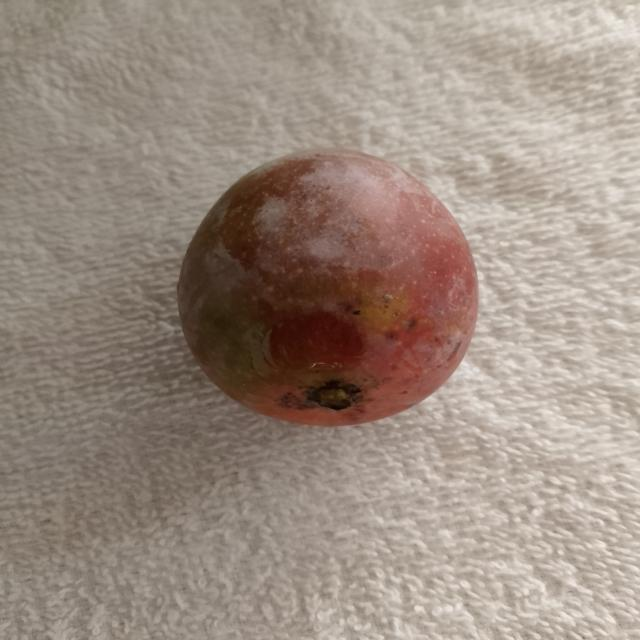mango: (172, 147, 484, 431)
